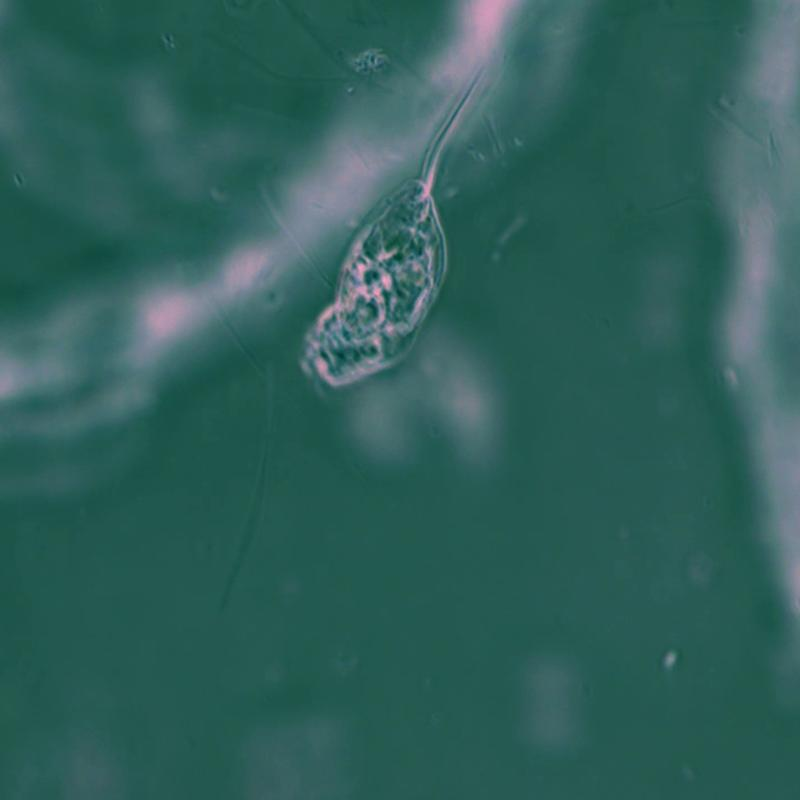depth:20: (294, 56, 508, 404)
